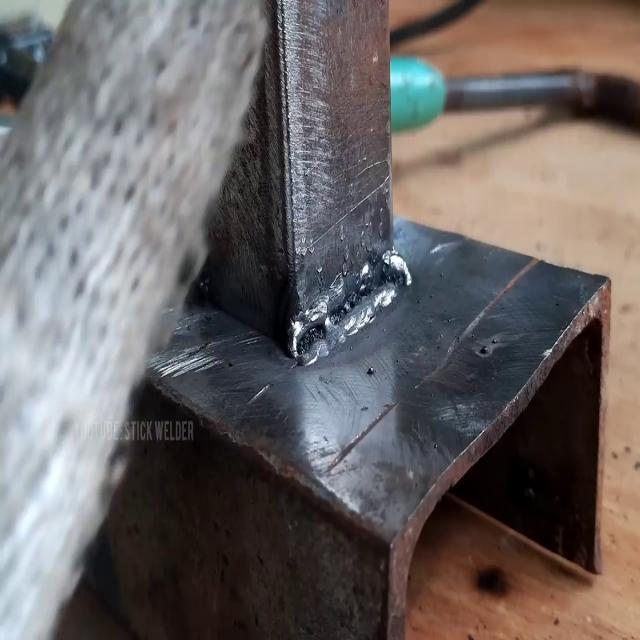Bad Weld: (290, 250, 412, 362)
Defect: (330, 290, 362, 324), (296, 321, 326, 356)
